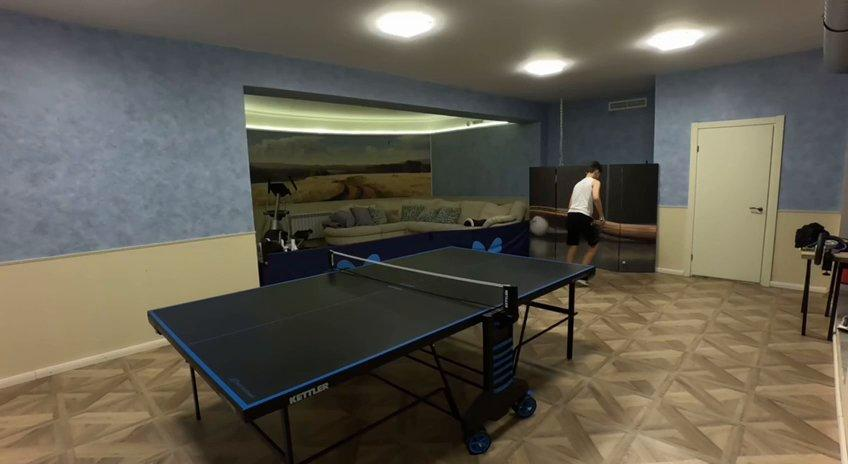Ball: (620, 259, 628, 265)
Net: (330, 251, 517, 317)
Player1: (567, 162, 603, 263)
Table: (148, 247, 595, 410)
